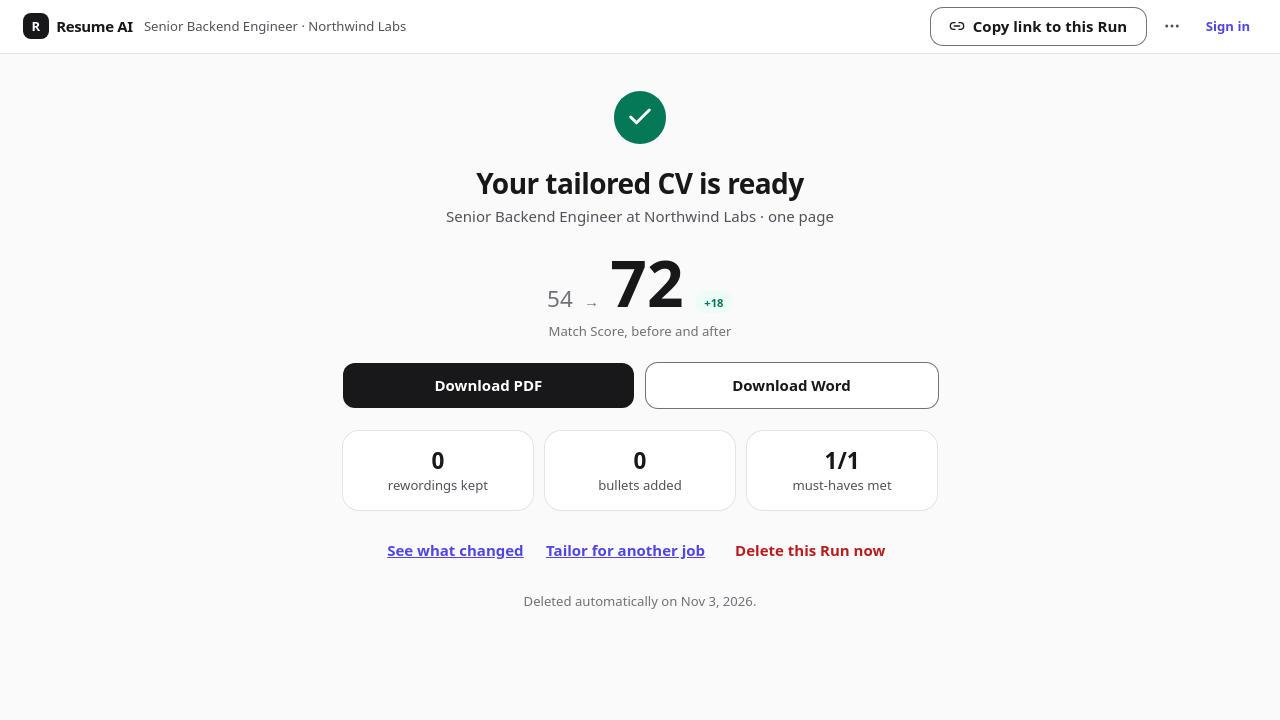
Scenario: Run actions in the header › Cancel closes the dialog without deleting
This screenshot has width=1280, height=720.
Click the button named "Run options". click: (1172, 26)
box: [1153,8,1191,45]
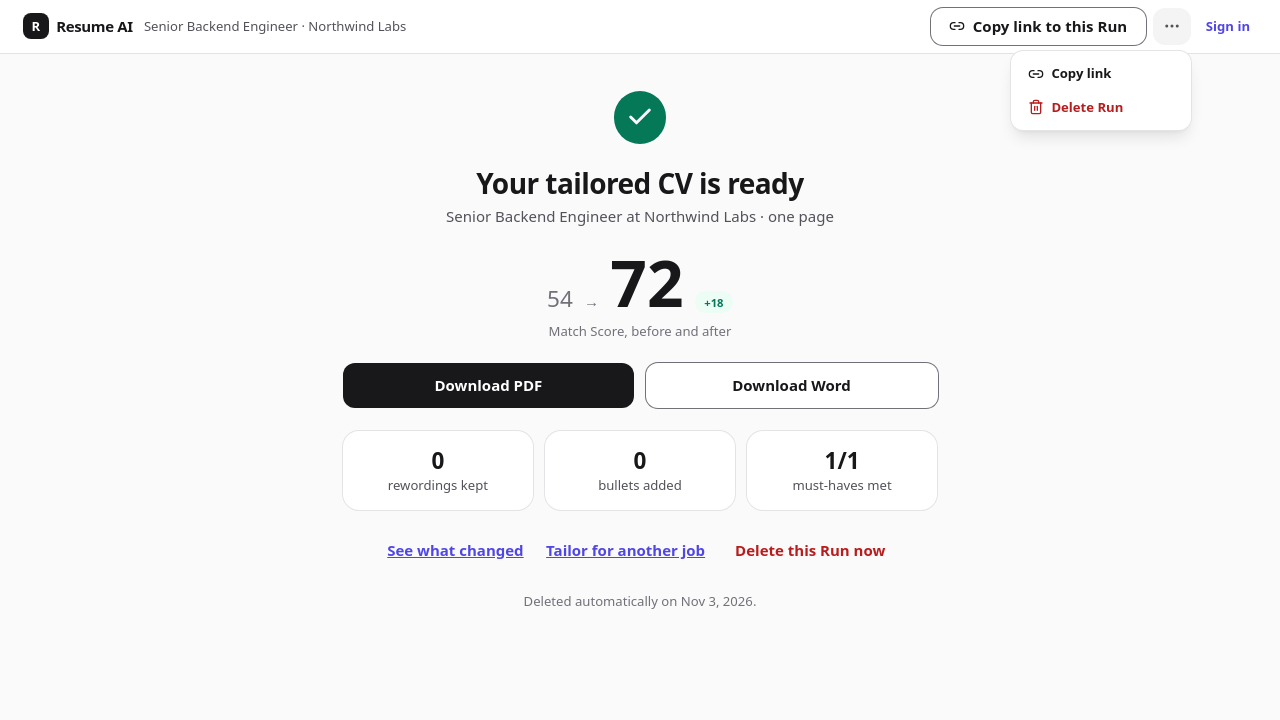
Click the menu item "Delete Run". click: (1076, 107)
box: [1028,98,1123,116]
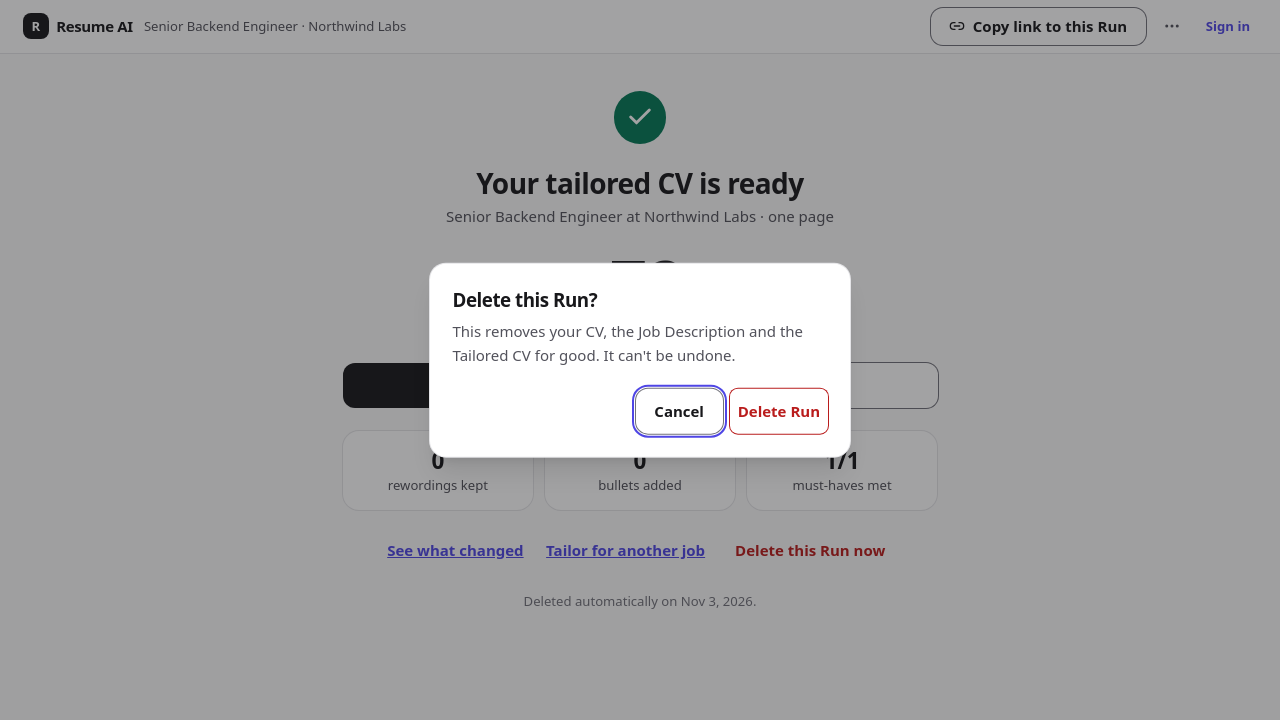
Click the button "Cancel". click: (679, 411)
box: [636,389,723,434]
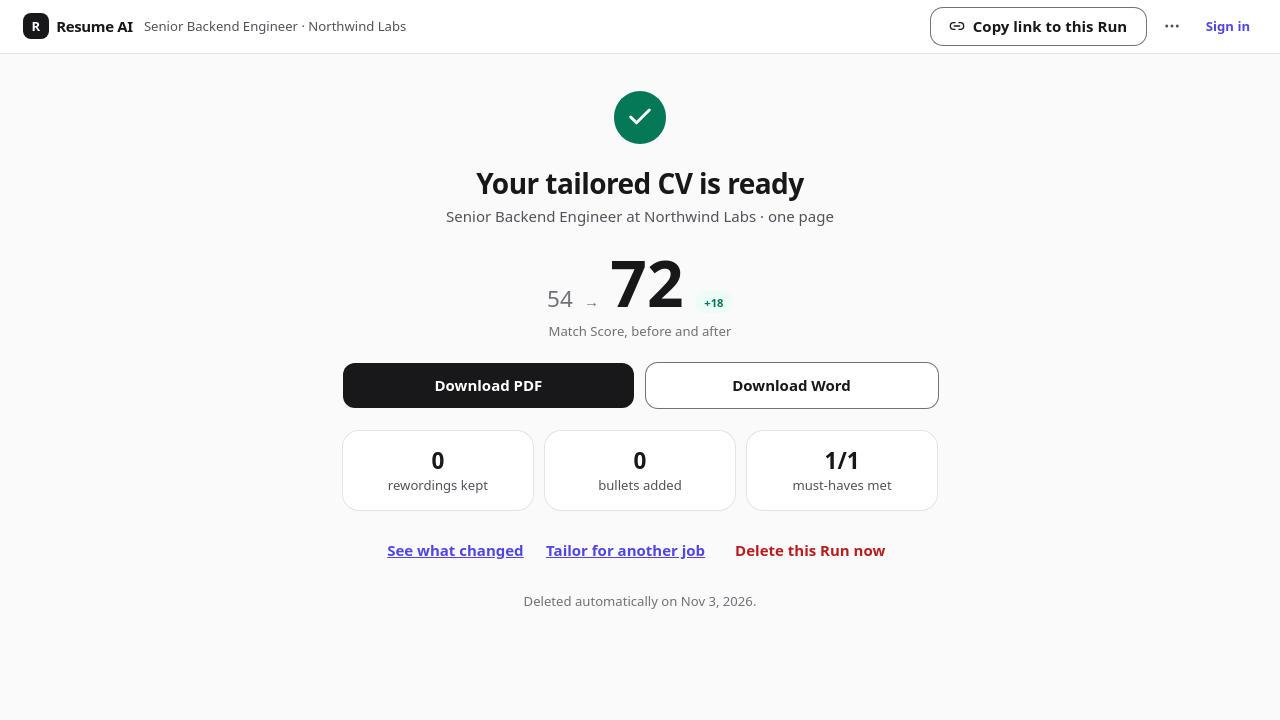
Expected: the heading "Your tailored CV is ready" is shown, [476,164,804,202]
Expected: the dialog is gone
